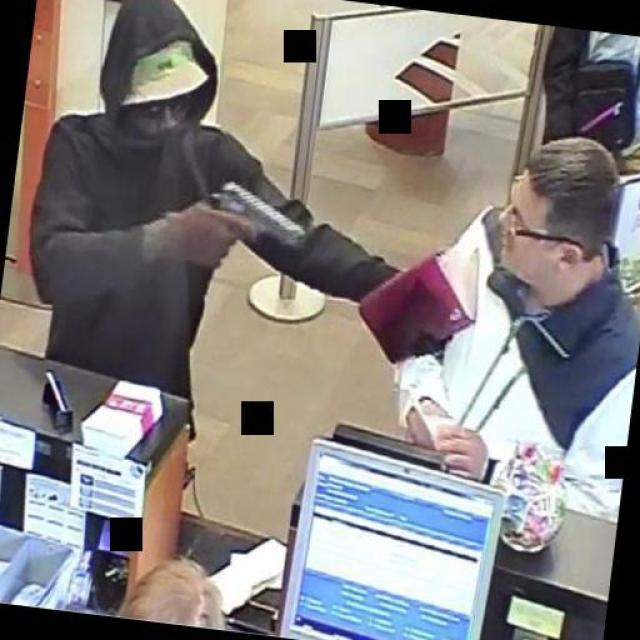gun: (189, 168, 311, 294)
